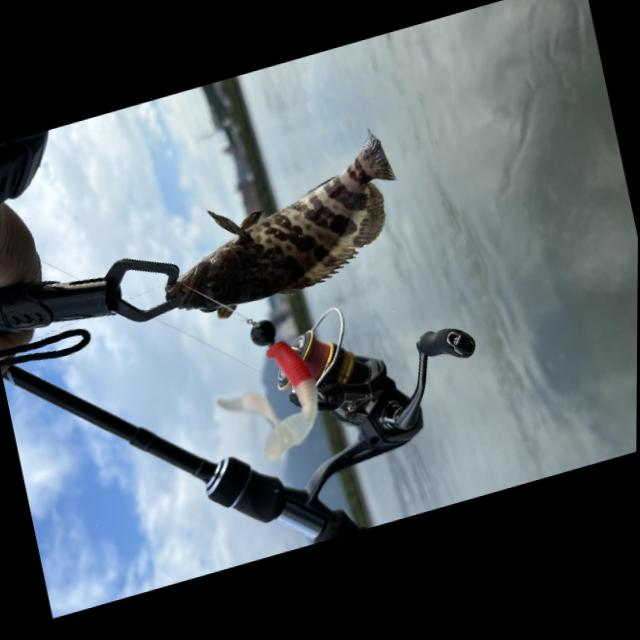Groupers: (138, 125, 411, 327)
